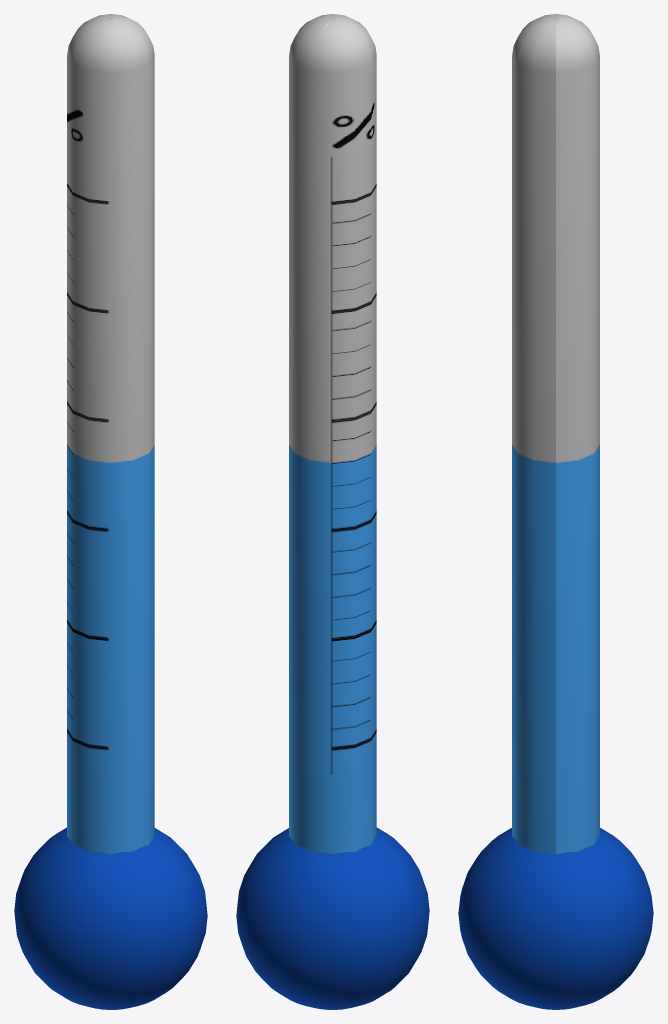
File: shiduji.obj
The picture shows the model from 3 angles, left to right: view 1: azimuth 30°, elevation 25°; view 2: azimuth 150°, elevation 25°; view 3: azimuth 270°, elevation 25°; orthographic projection.
Visible parts, largest first — view 1: Capsule001, Sphere001; view 2: Capsule001, Sphere001; view 3: Capsule001, Sphere001.
Boxes of the visible parts, x1,y1,x2,y2 form: Capsule001: (67,14,154,854); Sphere001: (14,827,207,1009); Capsule001: (289,14,376,854); Sphere001: (236,827,429,1009); Capsule001: (512,14,599,854); Sphere001: (458,828,653,1009).
Bounding box in the file's own units: 0.5342 × 3 × 0.5402.
2 materials, 1 textured.
